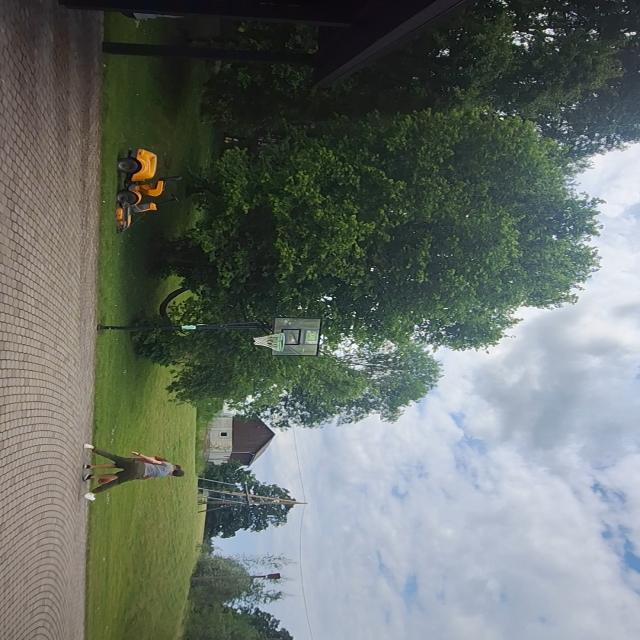ball: (96, 475, 115, 488)
hoop: (250, 331, 289, 355)
player: (85, 442, 188, 504), (86, 460, 187, 481)
